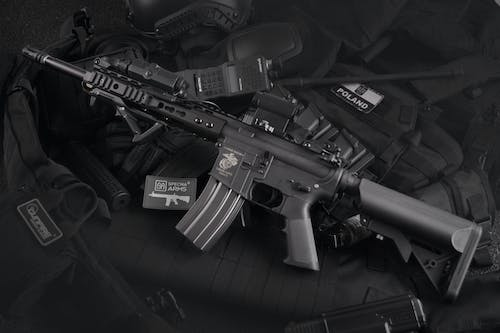gun: (17, 38, 485, 309)
